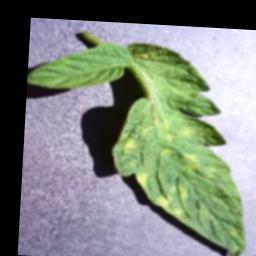Leaf_Mold: (108, 41, 255, 256)
